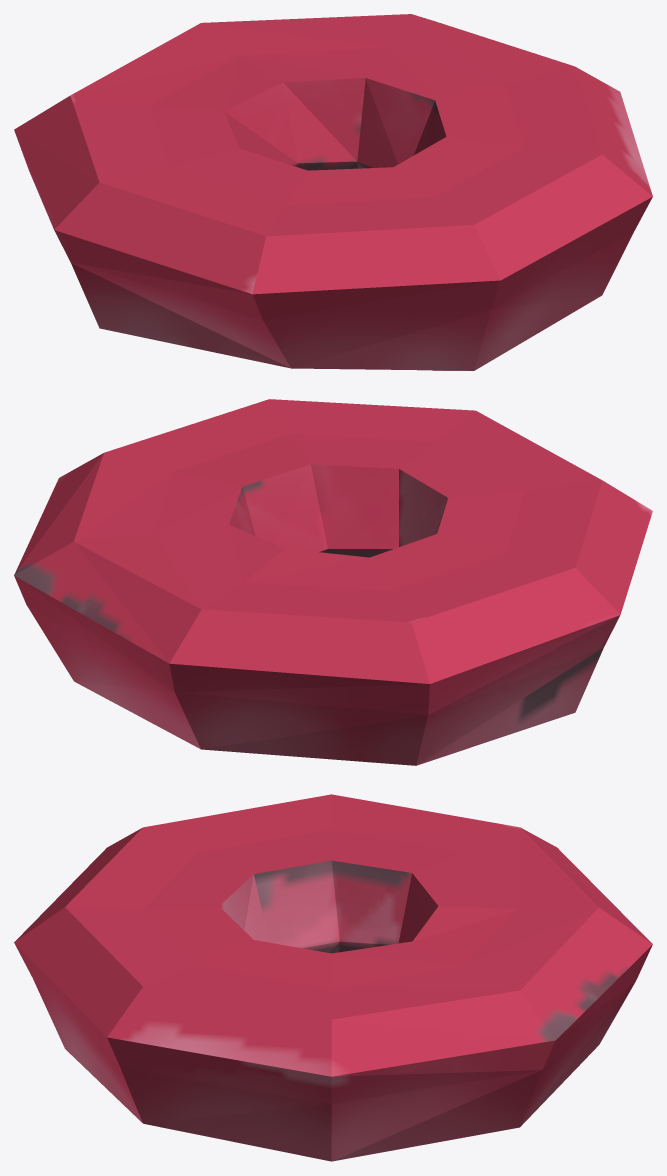
The model's file is spawner.obj.
3 views of the same model, one above another, from view 1: azimuth 30°, elevation 25°; view 2: azimuth 150°, elevation 25°; view 3: azimuth 270°, elevation 25° (orthographic). The views are drawn at different scales.
Visible parts, largest first — view 1: Torus; view 2: Torus; view 3: Torus.
Part boxes in pixels (x1=…): Torus: x1=14, y1=14, x2=652, y2=370; Torus: x1=14, y1=399, x2=652, y2=765; Torus: x1=14, y1=794, x2=652, y2=1161.
Bounding box in the file's own units: 2.87 × 0.8604 × 2.89.
